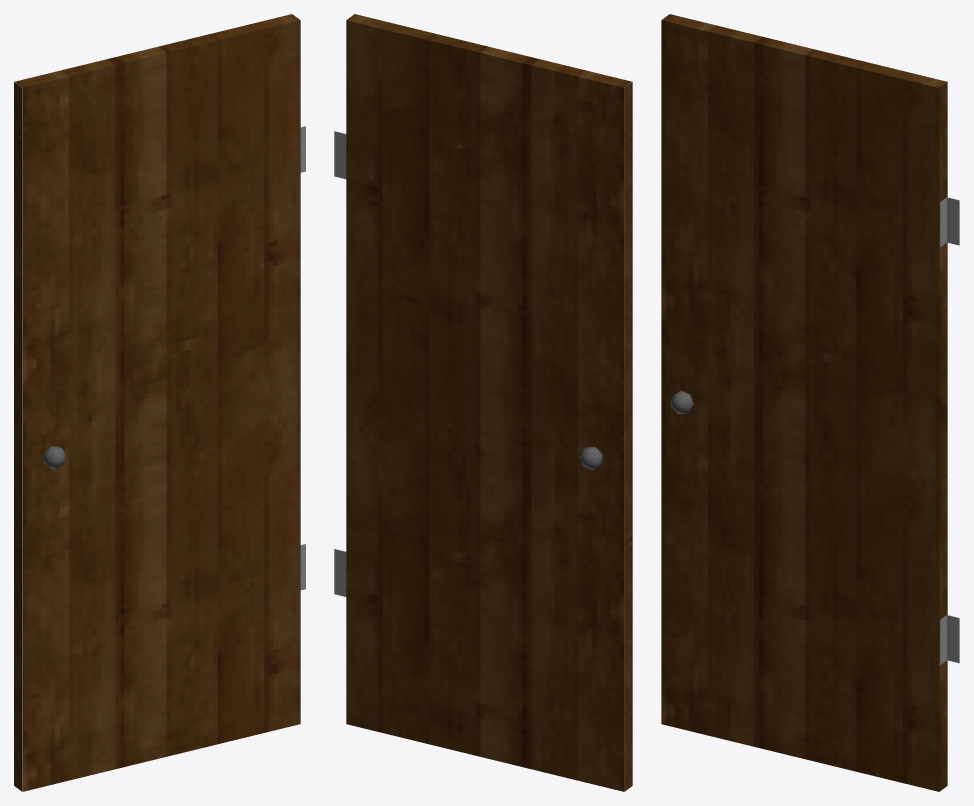
The model's file is Door2.fbx.
The picture shows the model from 3 angles, left to right: view 1: azimuth 30°, elevation 25°; view 2: azimuth 150°, elevation 25°; view 3: azimuth 330°, elevation 25°; orthographic projection.
Parts seen in each view (by area): view 1: Door2; view 2: Door2; view 3: Door2.
Boxes of the visible parts, x1=… form: Door2: x1=14, y1=14, x2=305, y2=791; Door2: x1=334, y1=14, x2=632, y2=791; Door2: x1=661, y1=14, x2=959, y2=791.
Size of the model in its own units: 128 by 295 by 23.82.
1 material, 1 textured.
